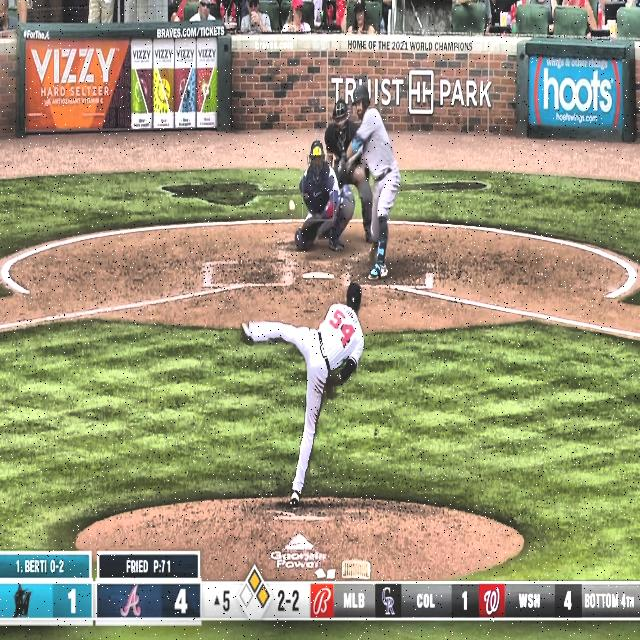baseball: (289, 200, 295, 212)
